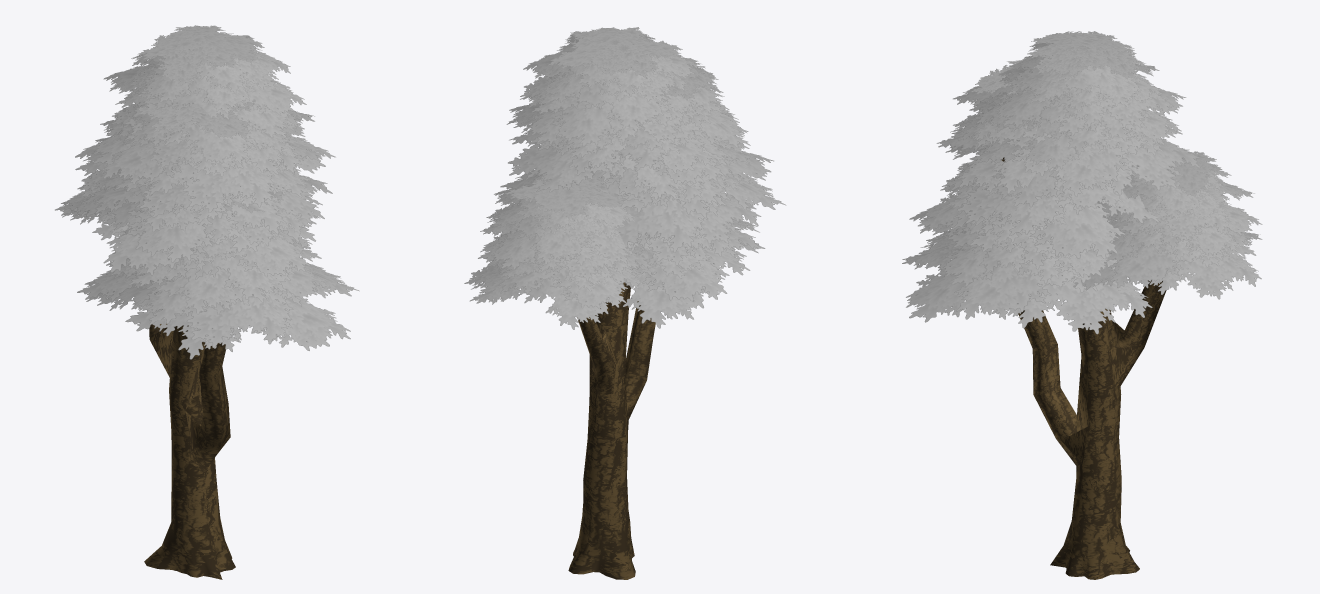
File: treeOak02.fbx
3 views of the same model, side by side, from view 1: azimuth 30°, elevation 25°; view 2: azimuth 150°, elevation 25°; view 3: azimuth 270°, elevation 25° (orthographic). The views are drawn at different scales.
Visible parts, largest first — view 1: leaves_Clone___3_, Mesh; view 2: leaves_Clone___3_, Mesh; view 3: leaves_Clone___3_, Mesh.
Part boxes in pixels (bbox=[...]): leaves_Clone___3_: bbox=[55, 25, 359, 359]; Mesh: bbox=[144, 324, 235, 579]; leaves_Clone___3_: bbox=[464, 27, 786, 329]; Mesh: bbox=[568, 282, 655, 579]; leaves_Clone___3_: bbox=[902, 31, 1262, 334]; Mesh: bbox=[1001, 157, 1166, 579].
Bounding box in the file's own units: 522 × 806 × 634.
